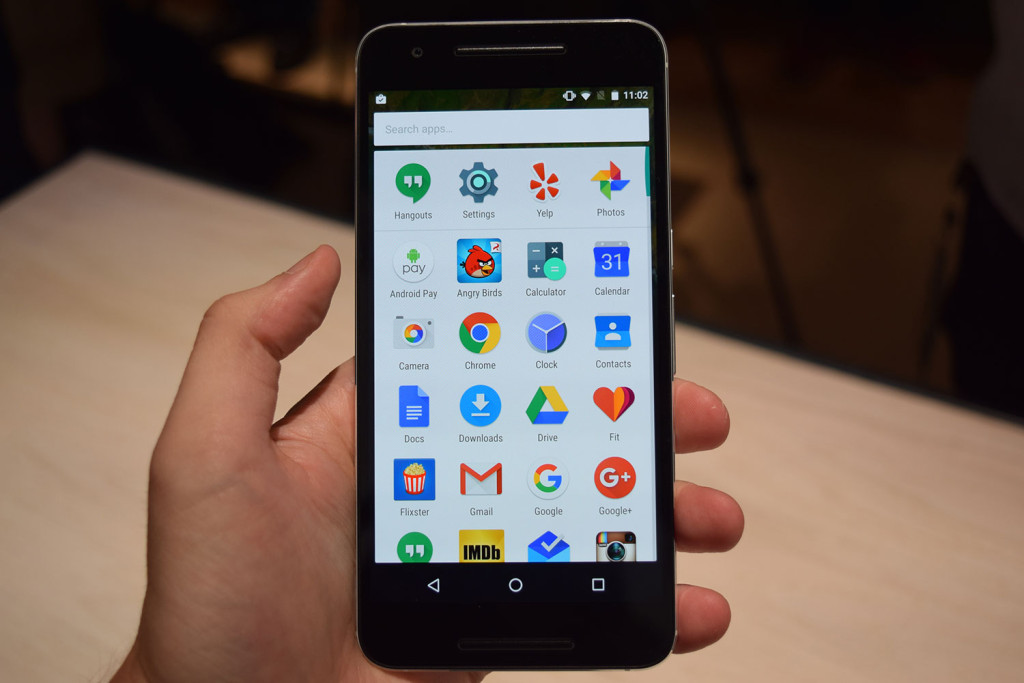smartphone: (354, 18, 677, 671)
